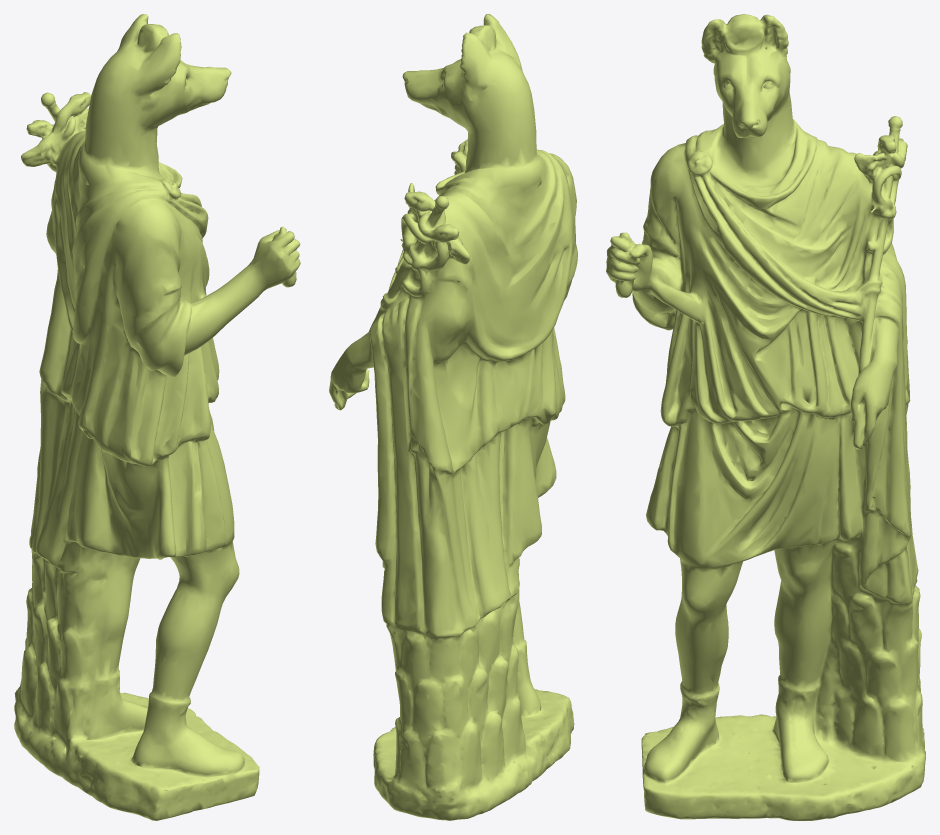
File: hermaneubis_yellow.glb
3 views of the same model, side by side, from view 1: azimuth 30°, elevation 25°; view 2: azimuth 150°, elevation 25°; view 3: azimuth 270°, elevation 25° (orthographic). The views are drawn at different scales.
Visible parts, largest first — view 1: Hermanubis; view 2: Hermanubis; view 3: Hermanubis.
Part boxes in pixels (x1,y1,x2,y2): Hermanubis: (14, 14, 300, 820); Hermanubis: (329, 14, 577, 820); Hermanubis: (606, 14, 925, 820).
Size of the model in its own units: 6.04 by 24.24 by 9.11.
